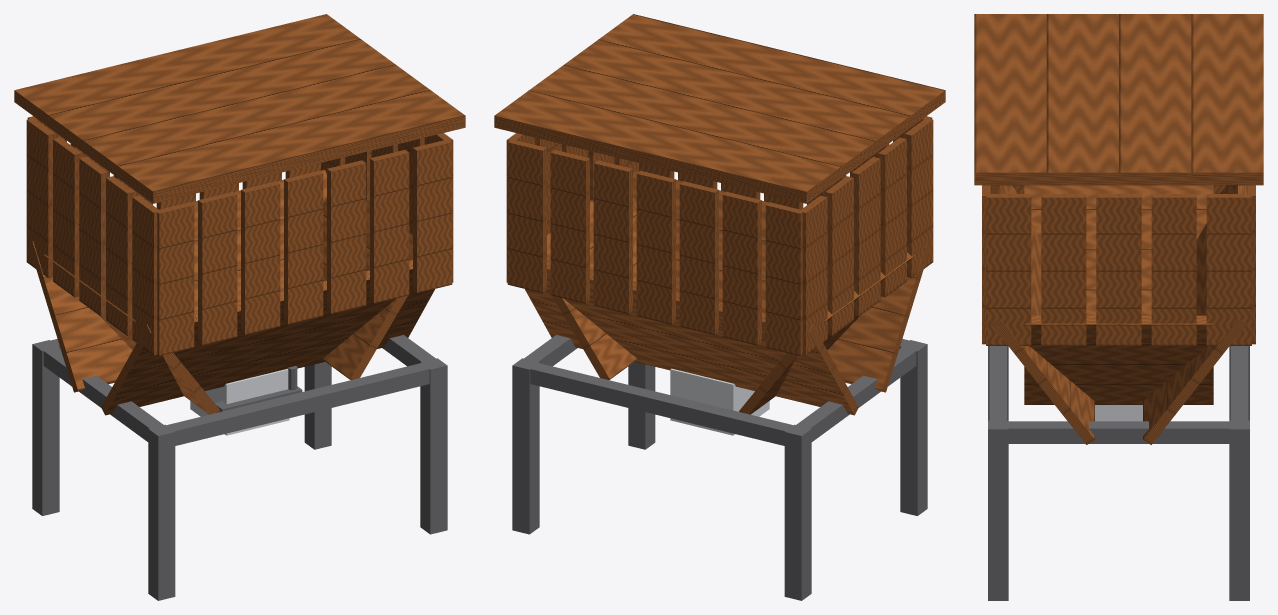
Rendered from distillery-and-bonded-warehouse-malt-bin-e55138c6__38670.glb.
3 views of the same model, side by side, from view 1: azimuth 30°, elevation 25°; view 2: azimuth 150°, elevation 25°; view 3: azimuth 270°, elevation 25° (orthographic). The views are drawn at different scales.
Parts seen in each view (by area): view 1: malt-bin-timber, malt-bin-iron, malt-bin-steel; view 2: malt-bin-timber, malt-bin-iron, malt-bin-steel; view 3: malt-bin-timber, malt-bin-iron, malt-bin-steel.
Part boxes in pixels (x1,y1,x2,y2): malt-bin-timber: (14, 14, 465, 415); malt-bin-iron: (32, 335, 447, 600); malt-bin-steel: (190, 368, 289, 435); malt-bin-timber: (494, 14, 945, 415); malt-bin-iron: (512, 335, 927, 600); malt-bin-steel: (670, 368, 769, 435); malt-bin-timber: (974, 14, 1263, 444); malt-bin-iron: (988, 346, 1249, 600); malt-bin-steel: (1095, 405, 1142, 421).
Bounding box in the file's own units: 2.18 × 2.78 × 1.68.
Materials: 3 (1 with a texture image).
